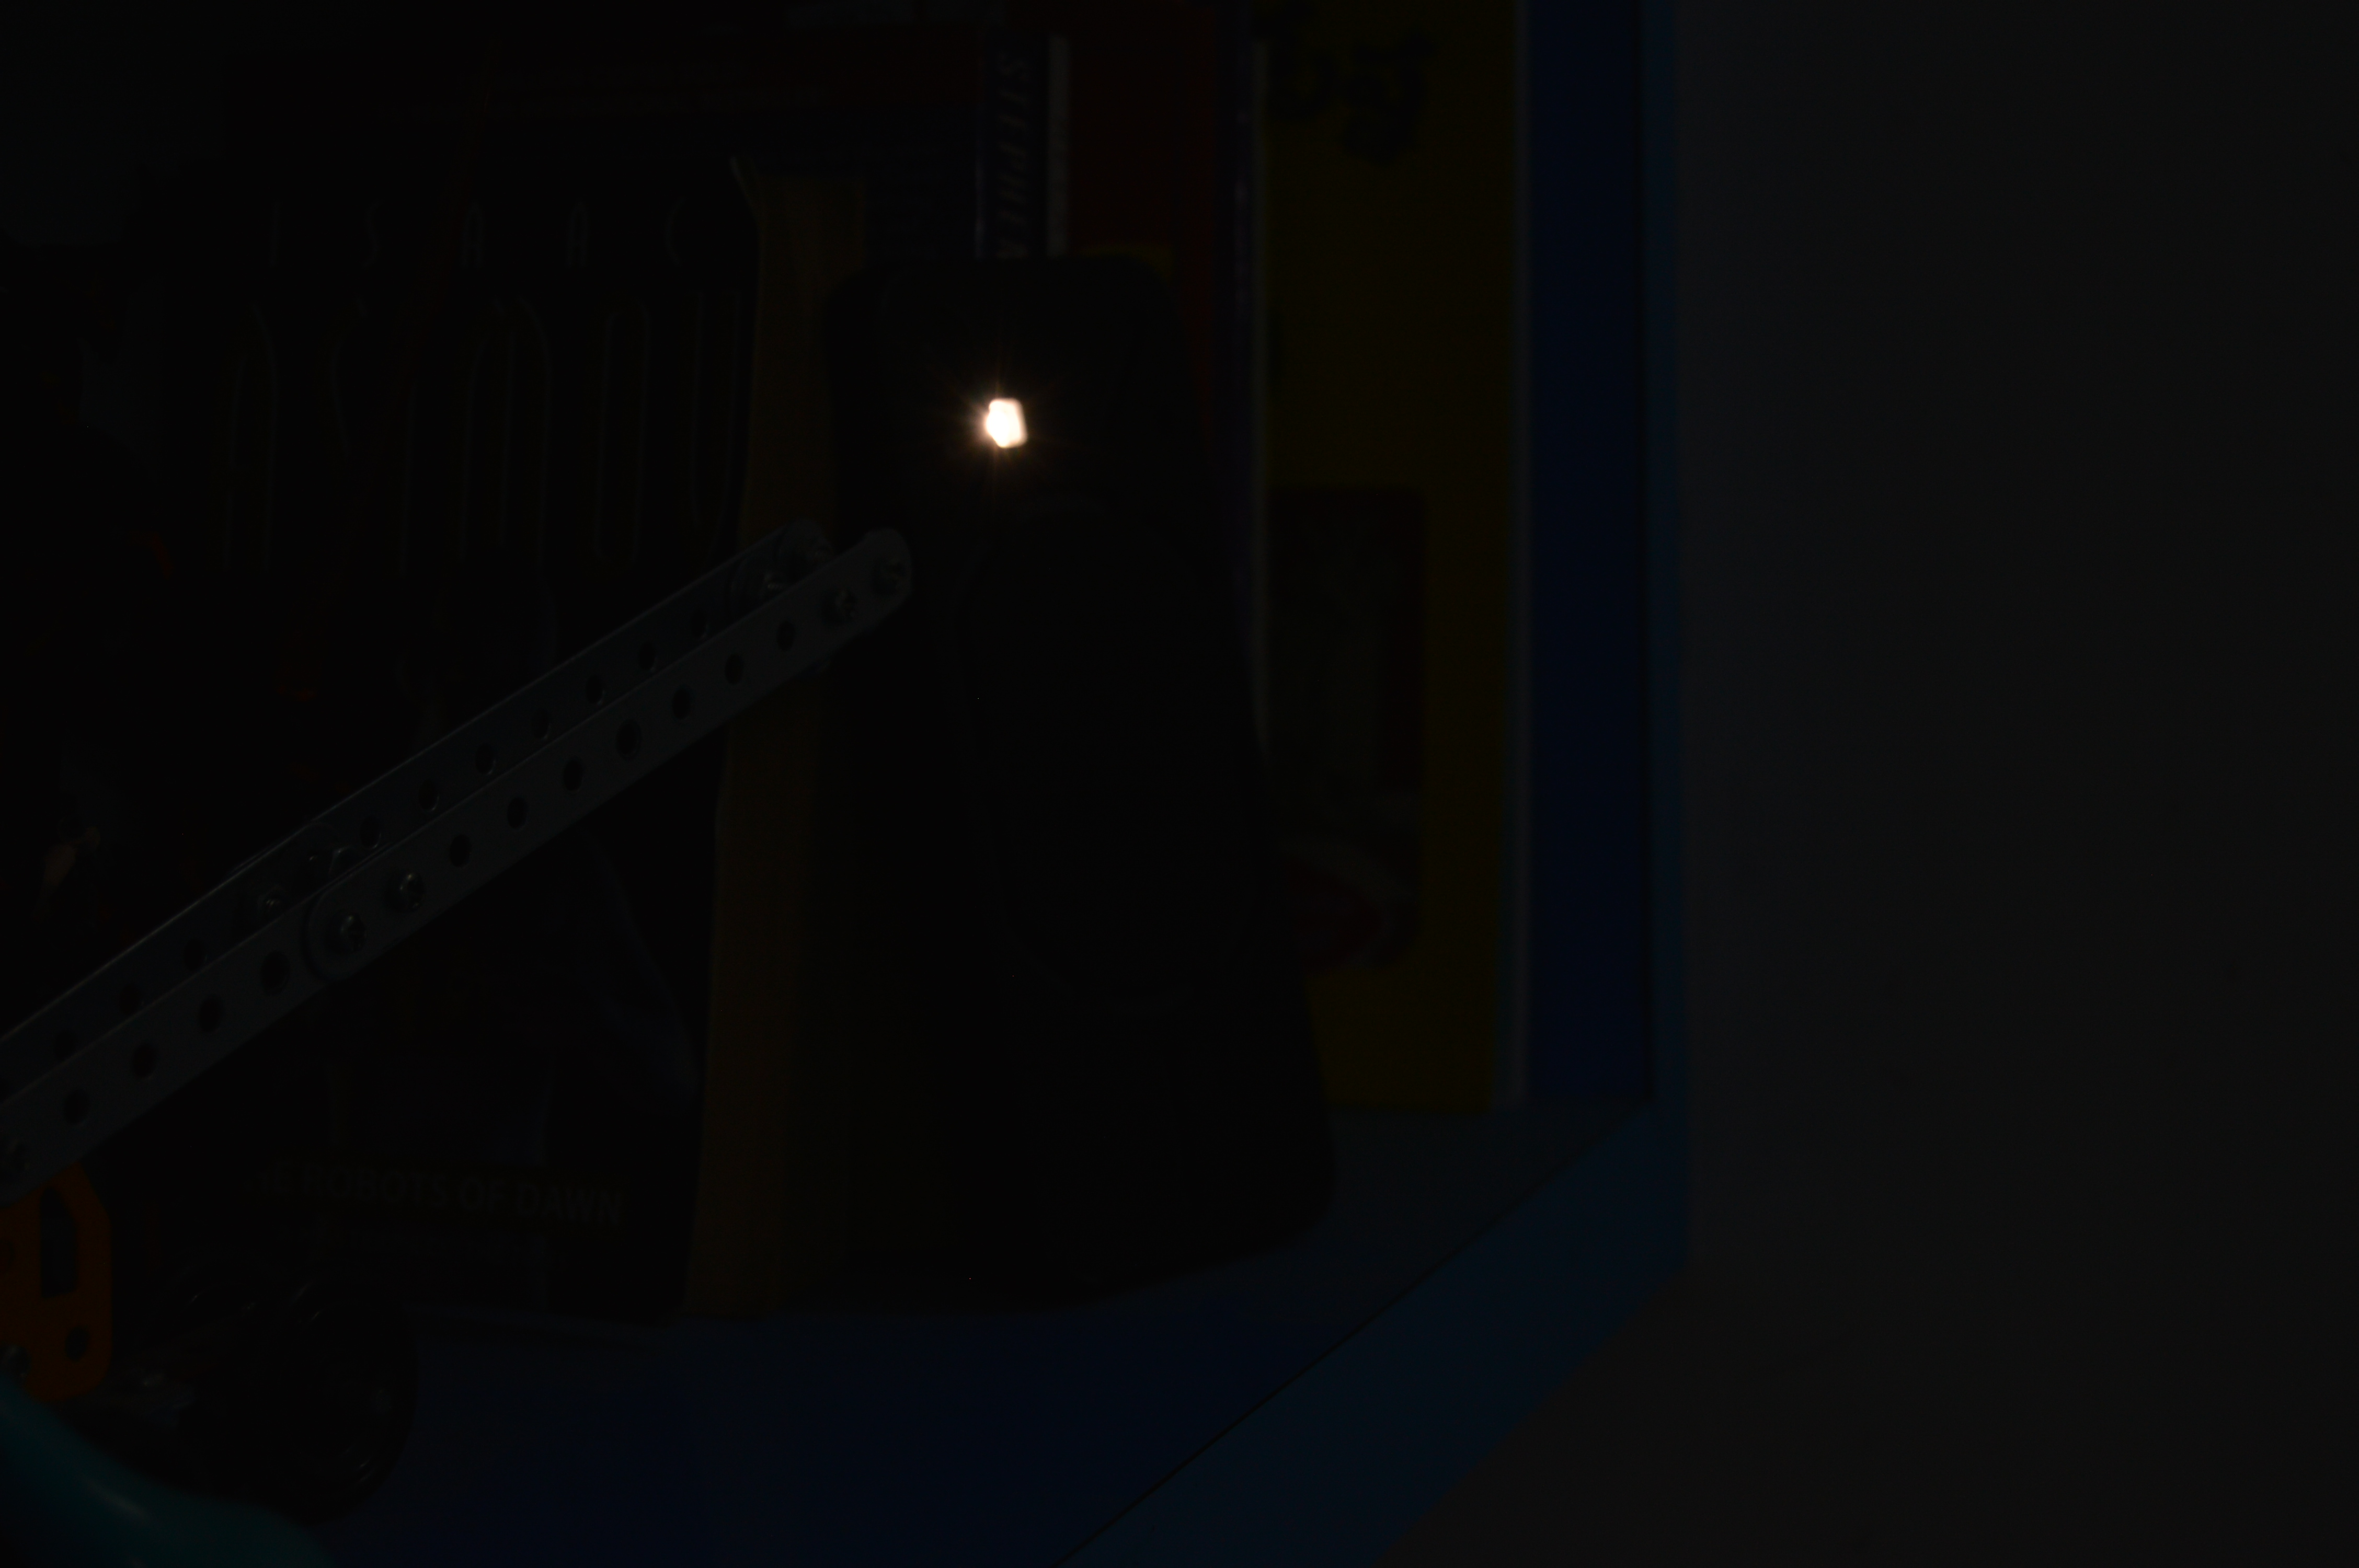Glare: (971, 390, 1034, 453)
